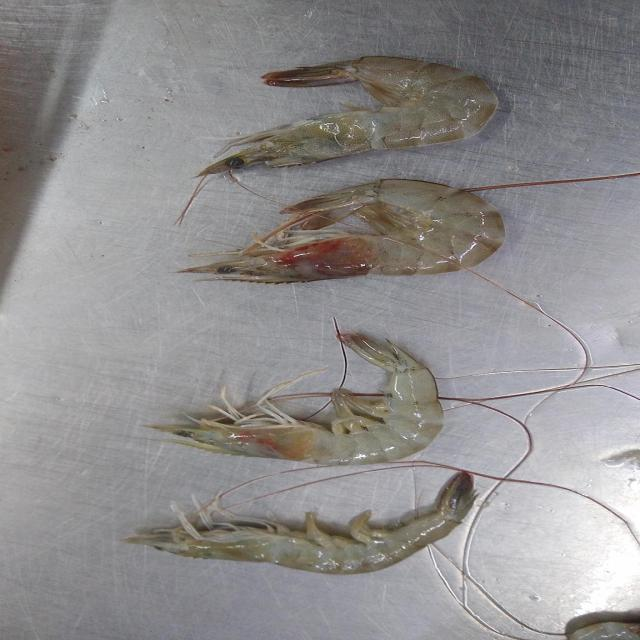shrimp: (149, 334, 442, 465), (124, 472, 476, 575), (198, 56, 498, 176), (180, 179, 504, 284)
